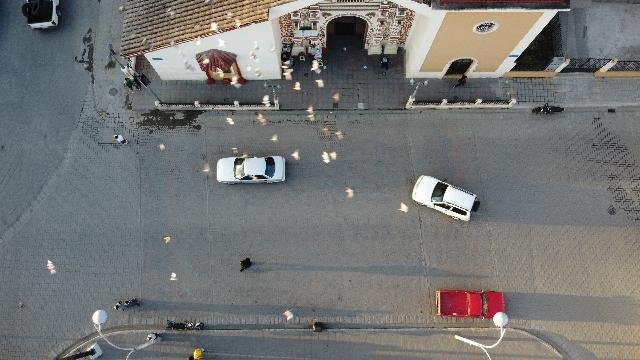Vehiculo: (412, 175, 480, 221), (436, 290, 505, 319), (217, 156, 286, 184), (21, 0, 61, 30)
